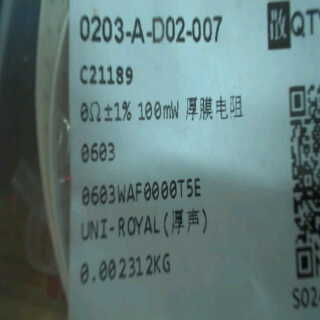0R: (78, 97, 186, 161)
